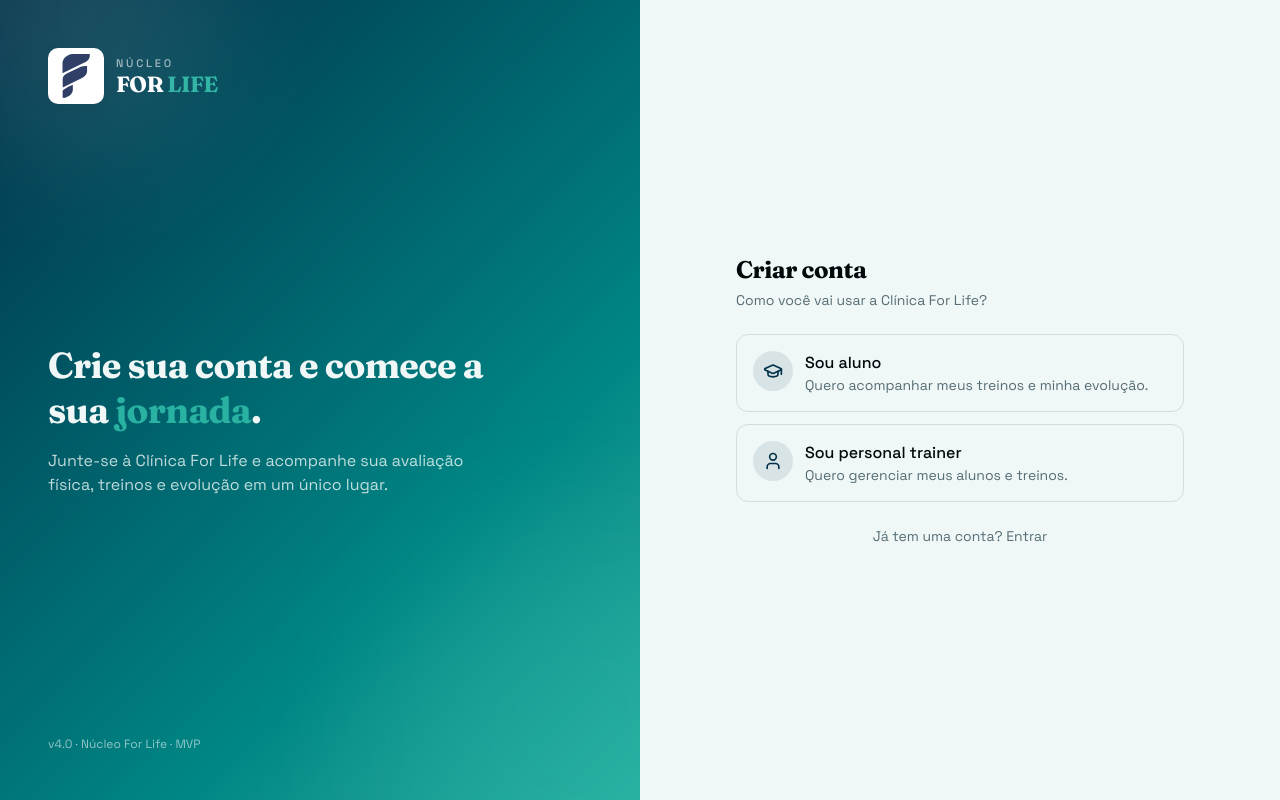
CadastroPage › personal — solo › goes back to the role step
The image size is (1280, 800).
Click the text "Sou personal trainer" at (883, 452), box [805,442,962,463]
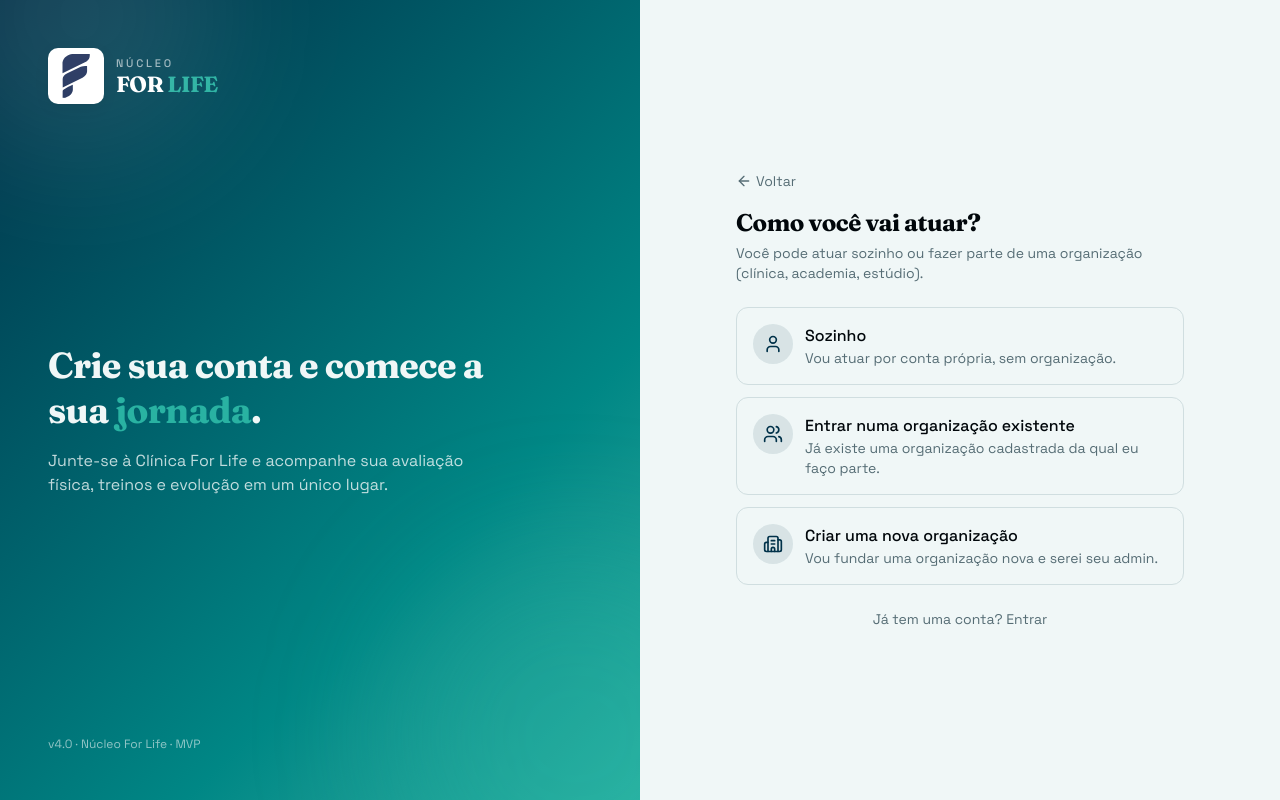
Click the button "Voltar" at (766, 181), box [736,171,796,191]
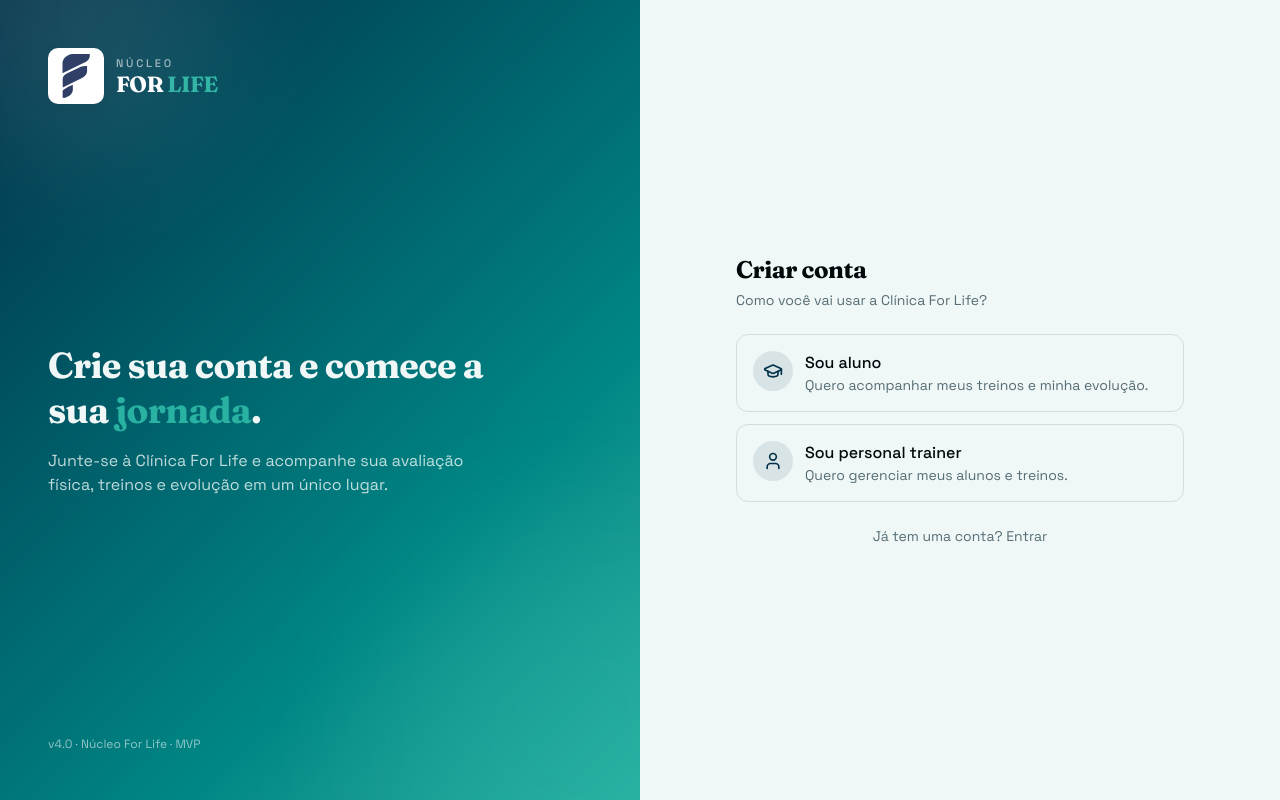
Check: the text "Sou aluno" is shown, box [805,352,881,373]
